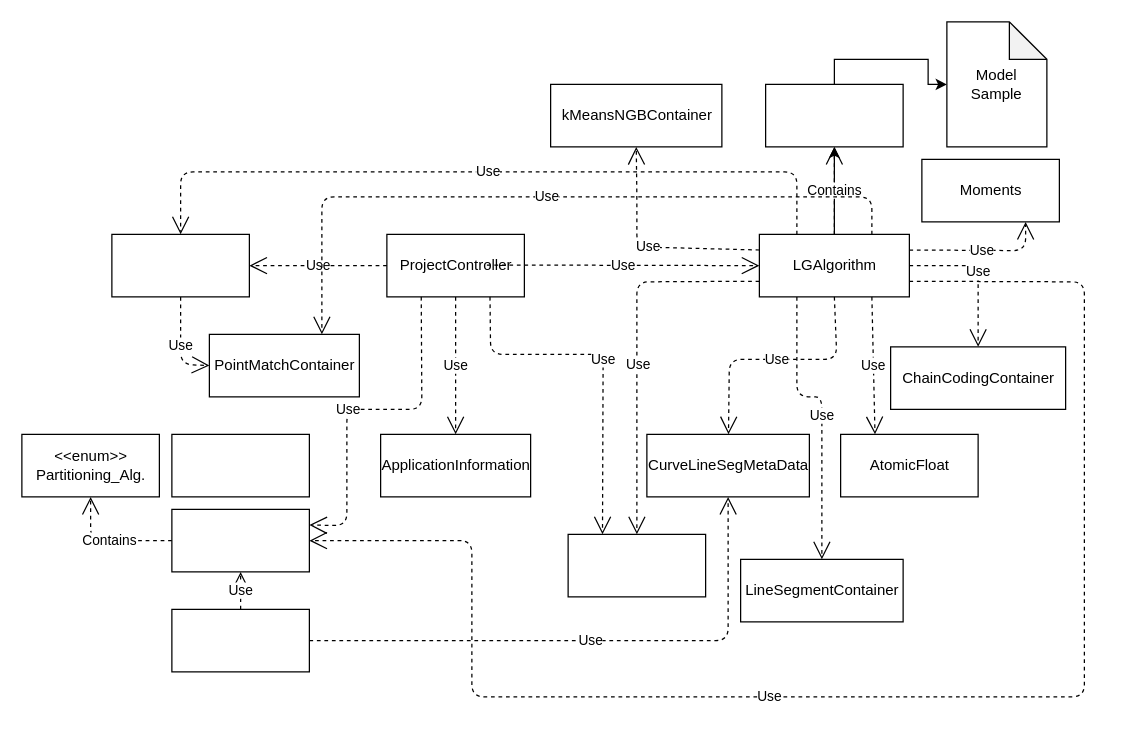
The diagram is 1124 pixels wide and 736 high, and some of its shapes have lost their labels. The shapes that lost their labels are listed below. From the top down, each one's centre as x and y in pixels, then its label:
At (833,115): "<<enum>> Mode".
At (180,265): "DatabaseModule".
At (240,465): "ImageInformation".
At (240,540): "ProjectUtilities".
At (636,565): "CompositeMat".
At (240,640): "LGNode".
